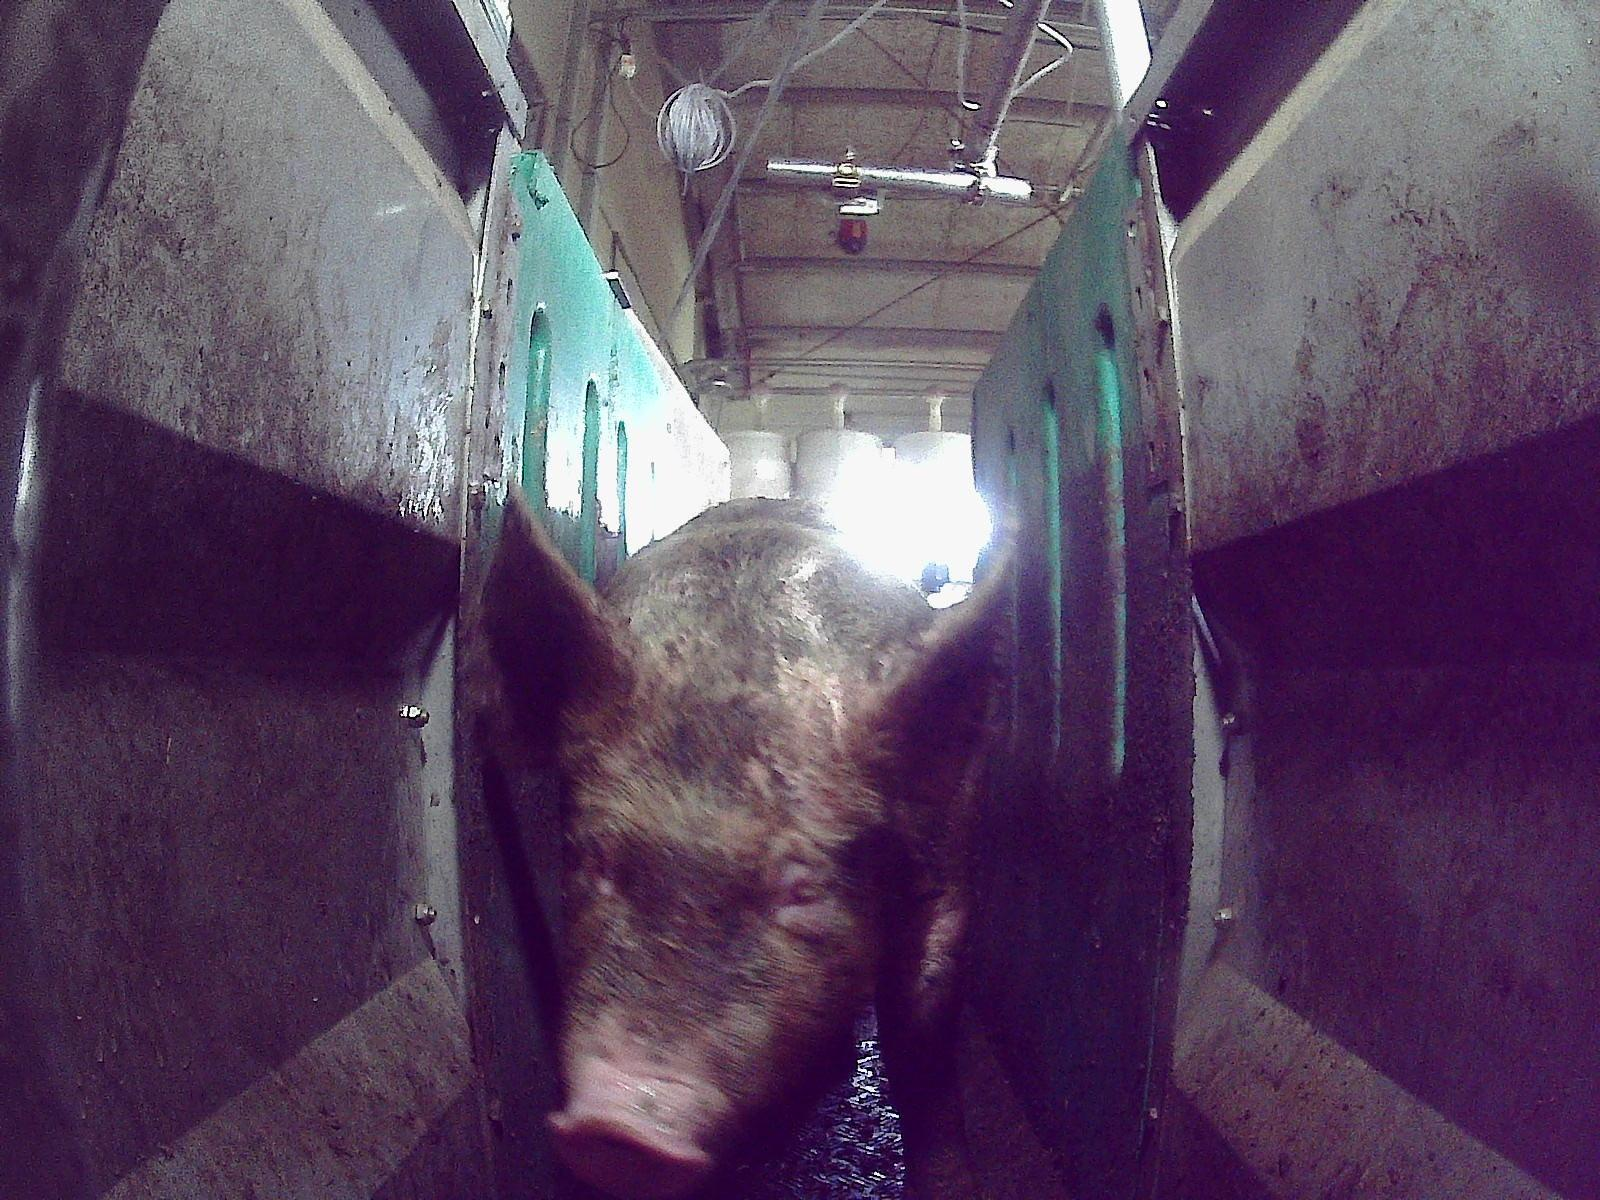Face: (549, 613, 913, 1199)
